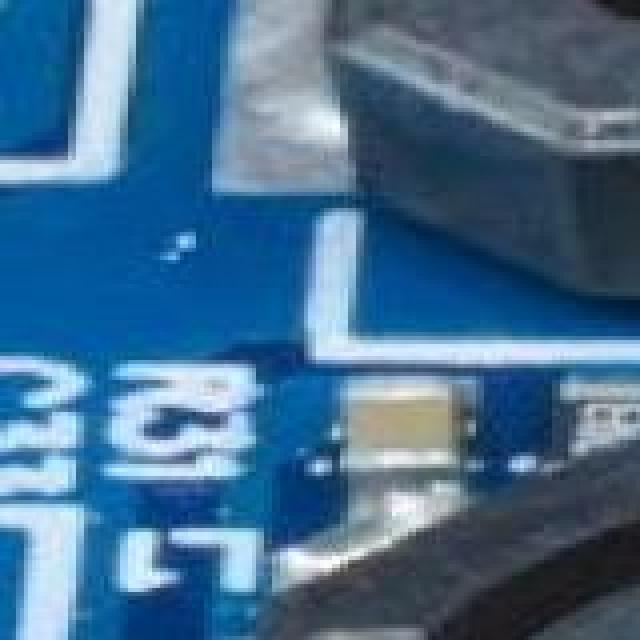capacitor: (332, 380, 480, 500)
inductor: (192, 424, 640, 640), (380, 0, 640, 276)
resistor: (516, 360, 640, 448)
